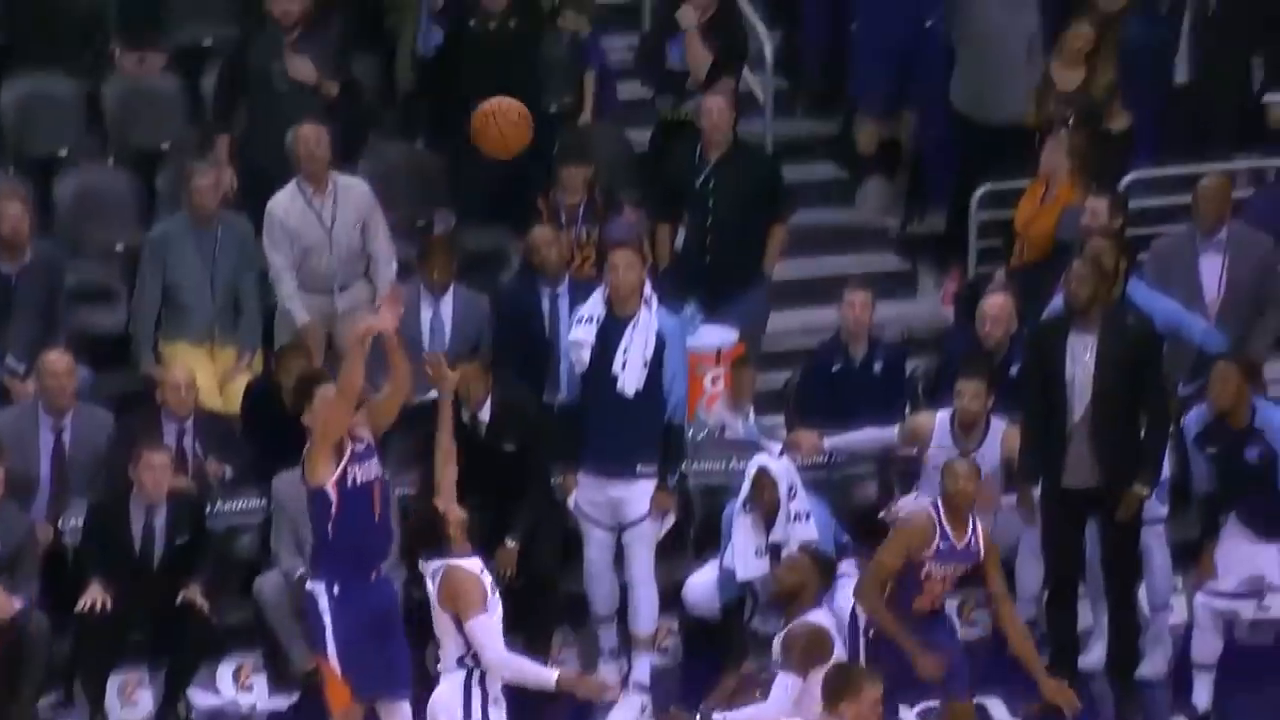ball: (469, 95, 533, 160)
